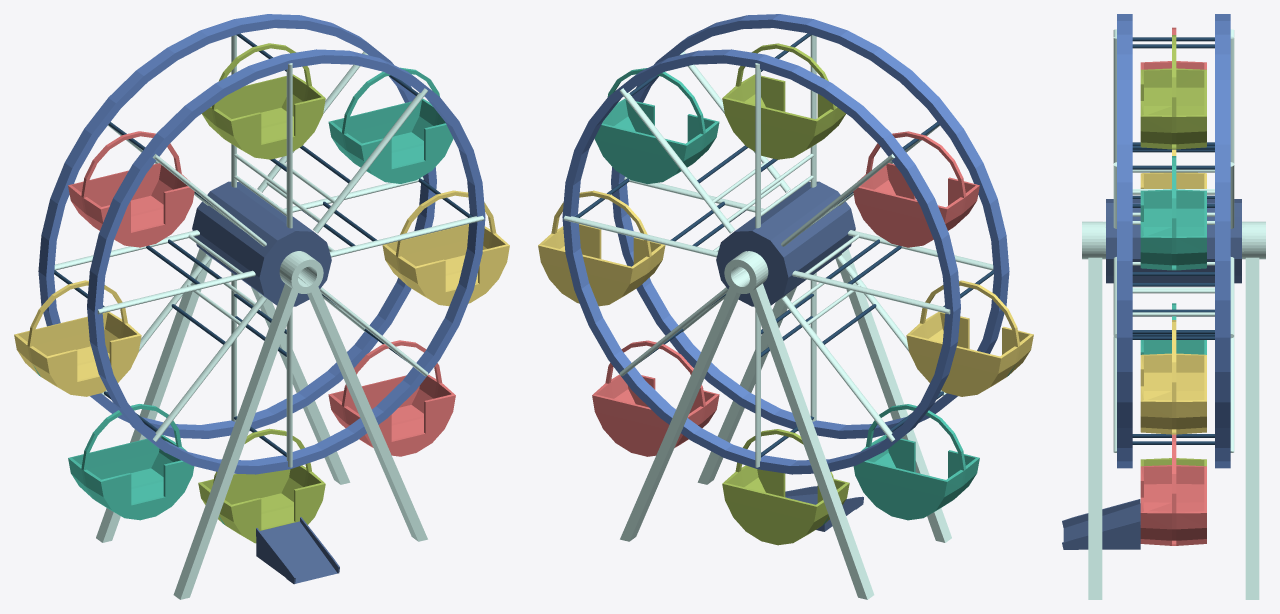
Rendered from FerrisWheel_0924.fbx.
3 views of the same model, side by side, from view 1: azimuth 30°, elevation 25°; view 2: azimuth 150°, elevation 25°; view 3: azimuth 270°, elevation 25° (orthographic).
Visible parts, largest first — view 1: wheel, floor support, ferris_06, ferris_02, ferris_01, ferris_07, ferris_08, ferris_03, ferris_05, ferris_04; view 2: wheel, floor support, ferris_06, ferris_02, ferris_01, ferris_08, ferris_07, ferris_05, ferris_03, ferris_04; view 3: wheel, floor support, ferris_01, ferris_02, ferris_03, ferris_04, ferris_07, ferris_06, ferris_08, ferris_05.
Part boxes in pixels (box(x1,y1,x2,y2)): wheel: box(38, 14, 485, 474); floor support: box(96, 248, 427, 599); ferris_06: box(68, 404, 194, 520); ferris_02: box(328, 67, 453, 183); ferris_01: box(202, 43, 325, 159); ferris_07: box(14, 280, 141, 396); ferris_08: box(68, 131, 194, 247); ferris_03: box(382, 190, 509, 306); ferris_05: box(198, 428, 325, 543); ferris_04: box(328, 340, 455, 456); wheel: box(562, 14, 1009, 474); floor support: box(620, 248, 951, 599); ferris_06: box(853, 404, 979, 520); ferris_02: box(594, 68, 719, 184); ferris_01: box(722, 43, 845, 159); ferris_08: box(853, 131, 979, 247); ferris_07: box(906, 280, 1033, 396); ferris_05: box(722, 429, 849, 545); ferris_03: box(538, 190, 665, 306); ferris_04: box(592, 340, 719, 456); wheel: box(1106, 14, 1241, 468); floor support: box(1062, 221, 1265, 599); ferris_01: box(1140, 35, 1206, 149); ferris_02: box(1140, 156, 1206, 270); ferris_03: box(1140, 320, 1206, 434); ferris_04: box(1140, 434, 1206, 545); ferris_07: box(1140, 149, 1206, 188); ferris_06: box(1140, 303, 1206, 354); ferris_08: box(1140, 27, 1206, 69); ferris_05: box(1140, 458, 1206, 466).
Size of the model in its own units: 517 by 193 by 528.
